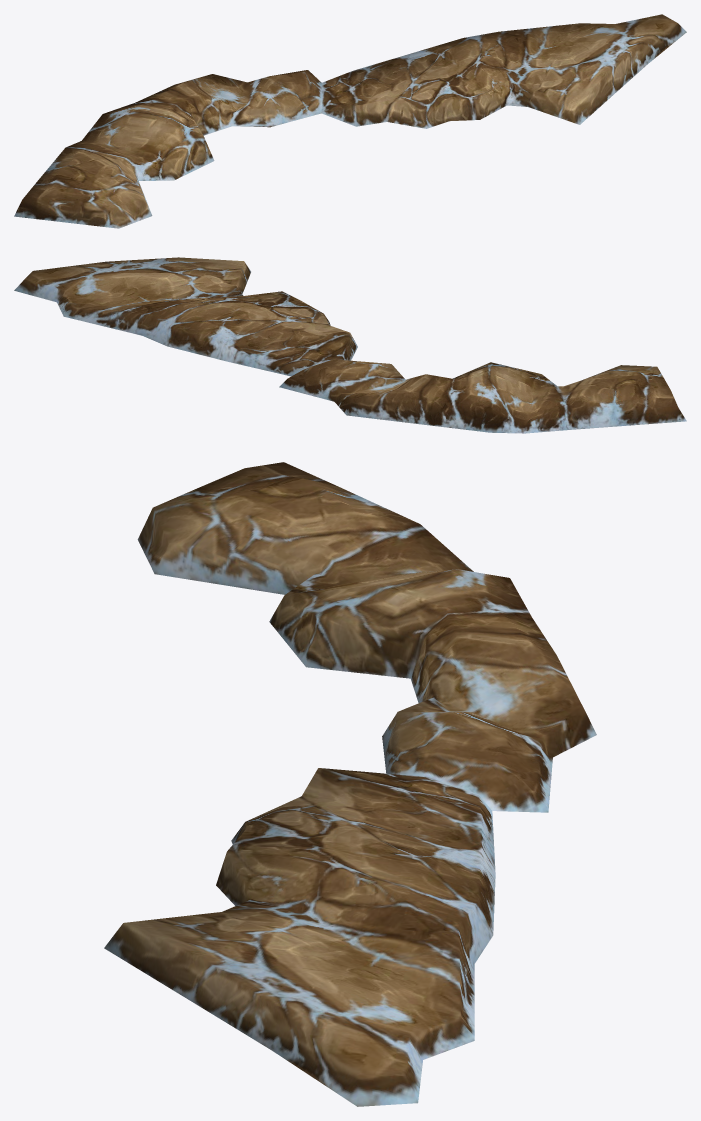
The model's file is Stage_BingYuan_ShiDui01.FBX.
The picture shows the model from 3 angles, top to bottom: view 1: azimuth 30°, elevation 25°; view 2: azimuth 150°, elevation 25°; view 3: azimuth 270°, elevation 25°; orthographic projection. The views are drawn at different scales.
Parts seen in each view (by area): view 1: Stage_BingYuan_ShiDui01; view 2: Stage_BingYuan_ShiDui01; view 3: Stage_BingYuan_ShiDui01.
Boxes of the visible parts, left/top/right/bottom form: Stage_BingYuan_ShiDui01: left=14, top=14, right=686, bottom=228; Stage_BingYuan_ShiDui01: left=14, top=257, right=686, bottom=433; Stage_BingYuan_ShiDui01: left=104, top=462, right=596, bottom=1106.
Size of the model in its own units: 1561 by 69.76 by 519.
